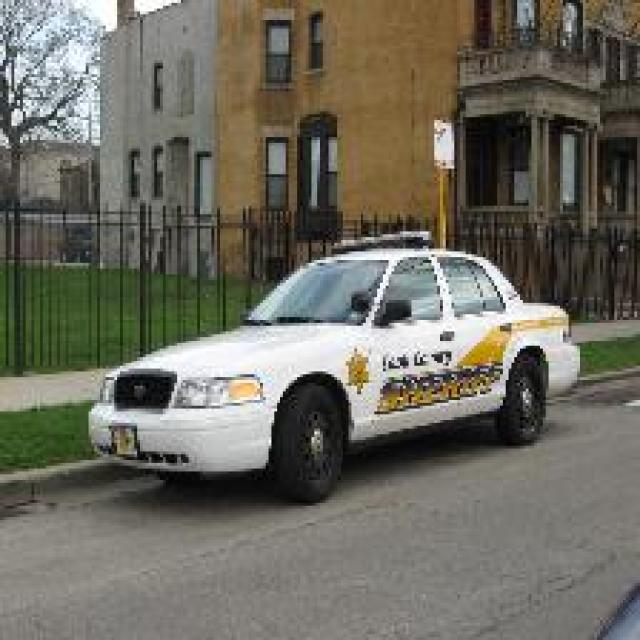Ad-signs: (432, 114, 454, 169)
Police-car: (83, 228, 580, 503)
